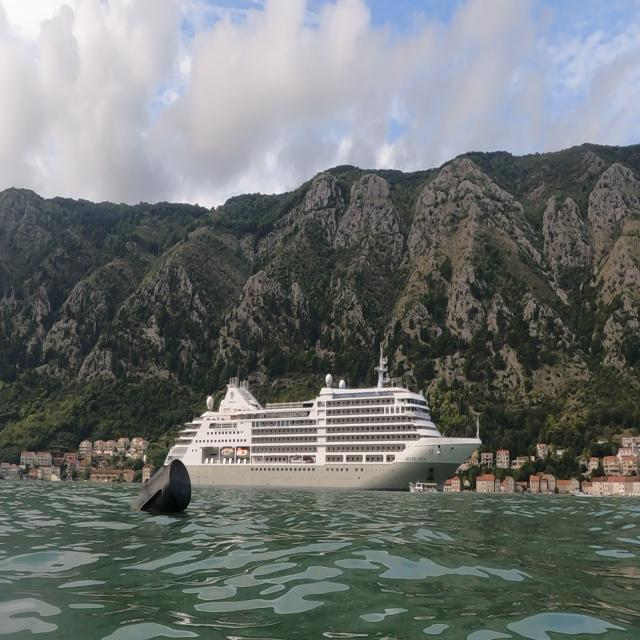boat: (130, 341, 483, 515)
buoy: (124, 452, 204, 528)
